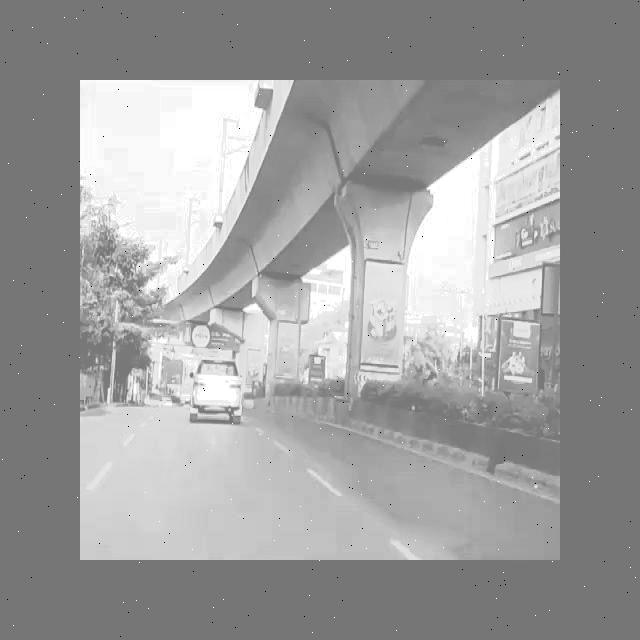Car: (182, 351, 251, 427)
